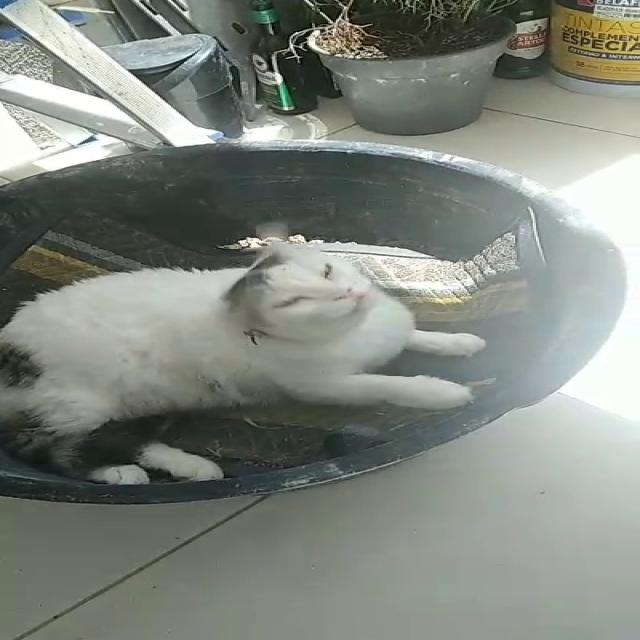Simba: (3, 223, 473, 506)
